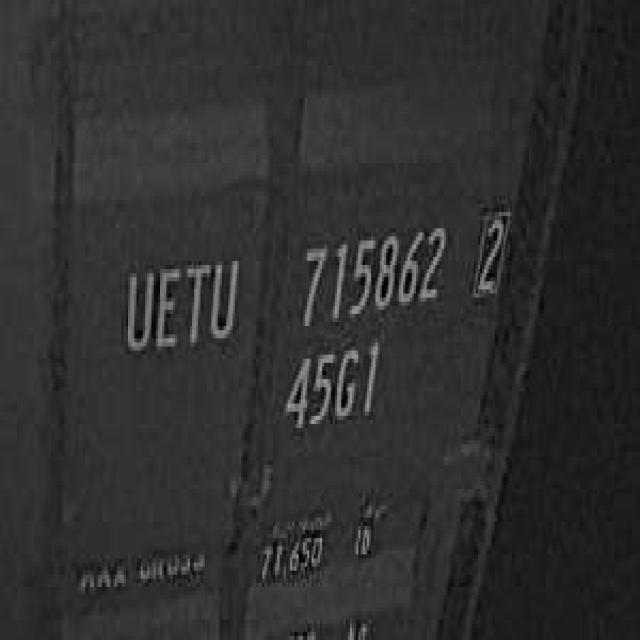dv: (469, 200, 510, 306)
owner: (117, 245, 241, 362)
serial: (295, 212, 450, 330)
size: (279, 334, 382, 440)
